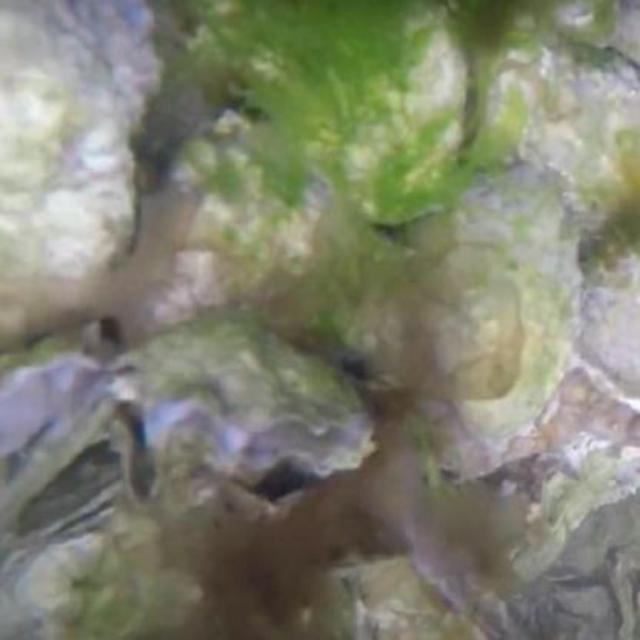Oyster-Closed: (0, 0, 163, 331), (411, 162, 589, 454), (343, 0, 465, 216), (370, 557, 486, 640)
Oyster-Open: (108, 322, 370, 486), (0, 405, 133, 549)
